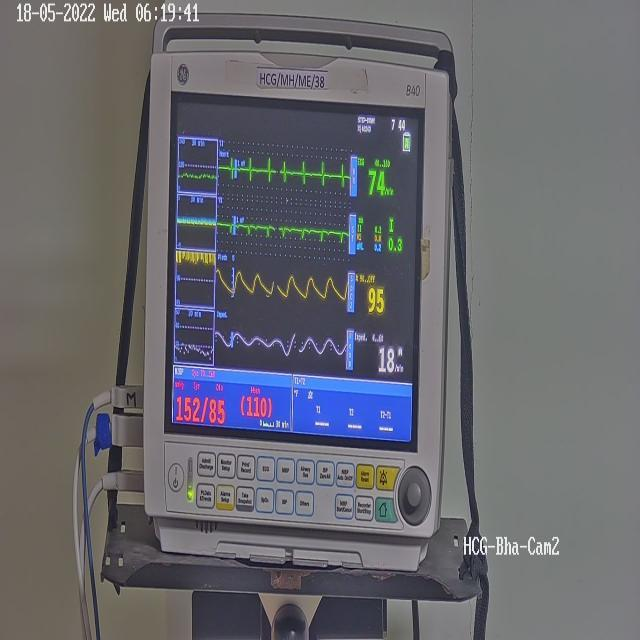Monitor: (140, 29, 454, 572)
